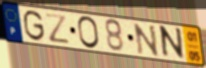8: (104, 18, 125, 55)
G: (23, 9, 47, 43)
N: (132, 23, 161, 59), (160, 24, 186, 61)
O: (77, 15, 101, 51)
Z: (43, 12, 71, 46)
